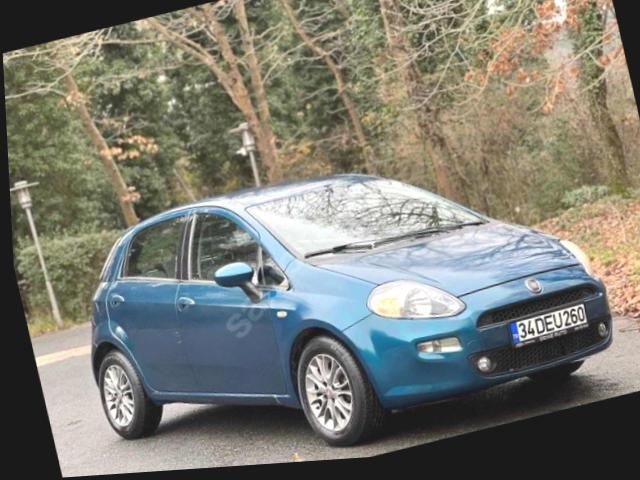plaka: (510, 303, 586, 344)
